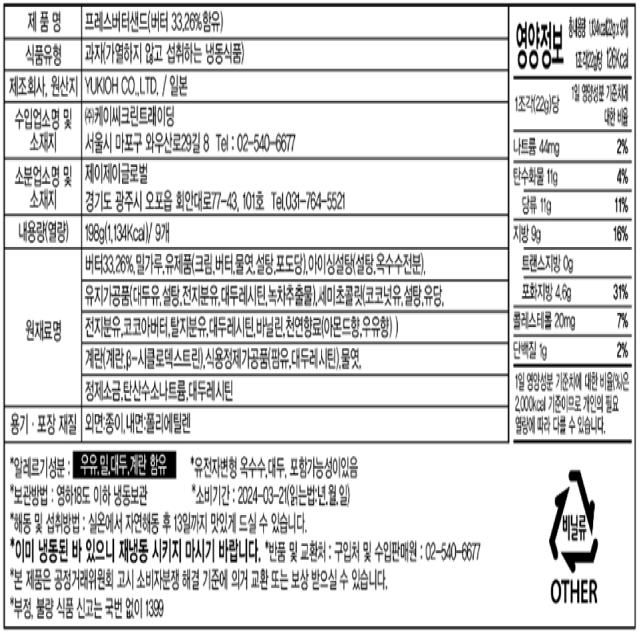Nutrition Label: (508, 2, 637, 443)
